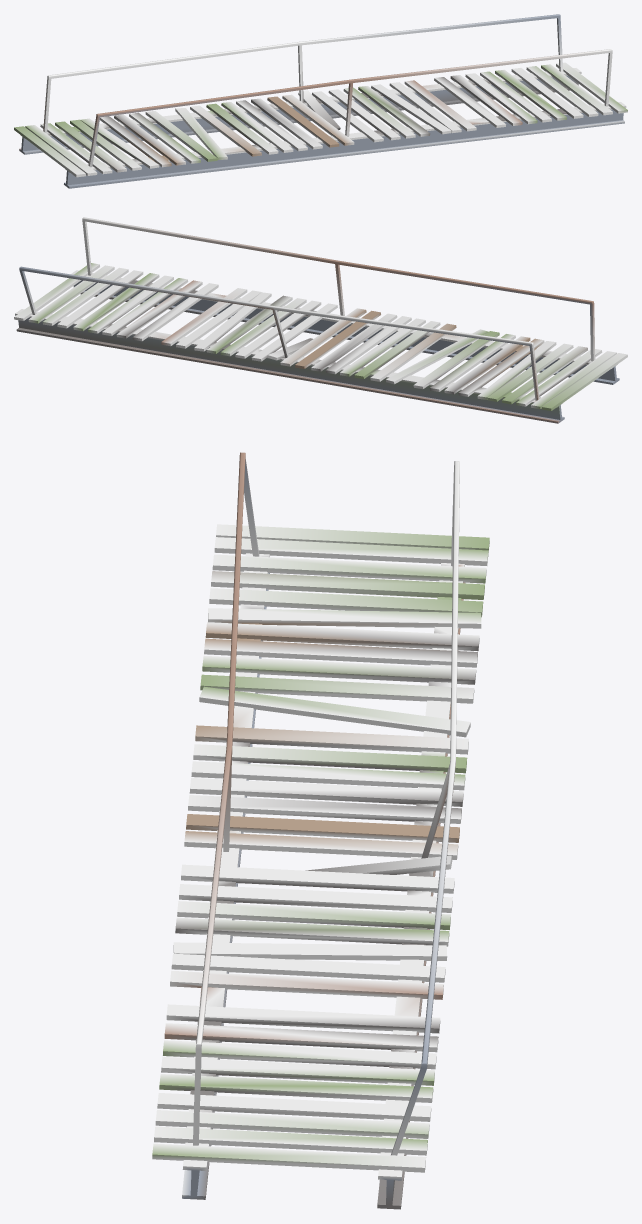
Rendered from bridge3.glb.
3 views of the same model, one above another, from view 1: azimuth 30°, elevation 25°; view 2: azimuth 150°, elevation 25°; view 3: azimuth 270°, elevation 25° (orthographic). The views are drawn at different scales.
Parts seen in each view (by area): view 1: BRIDGE3; view 2: BRIDGE3; view 3: BRIDGE3.
Boxes of the visible parts, box(x1,y1,x2,y2) form: BRIDGE3: box(14, 14, 627, 188); BRIDGE3: box(14, 217, 627, 423); BRIDGE3: box(152, 452, 489, 1209).
Bounding box in the file's own units: 11.78 × 2.6 × 3.15.
